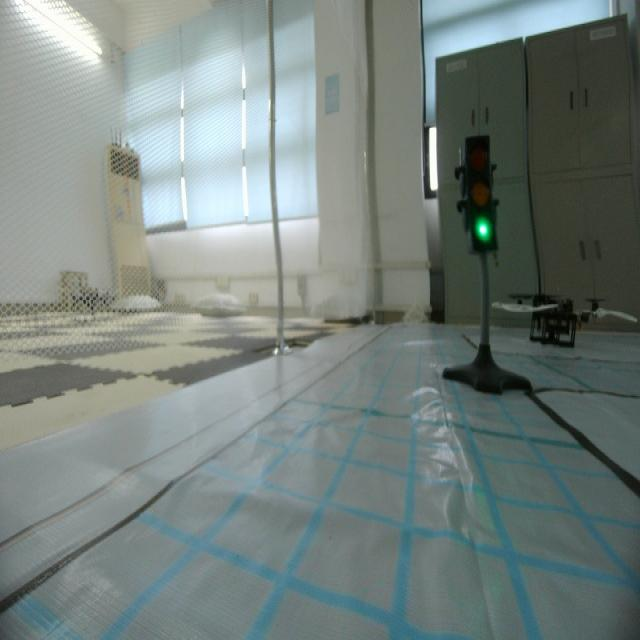green: (459, 135, 502, 257)
